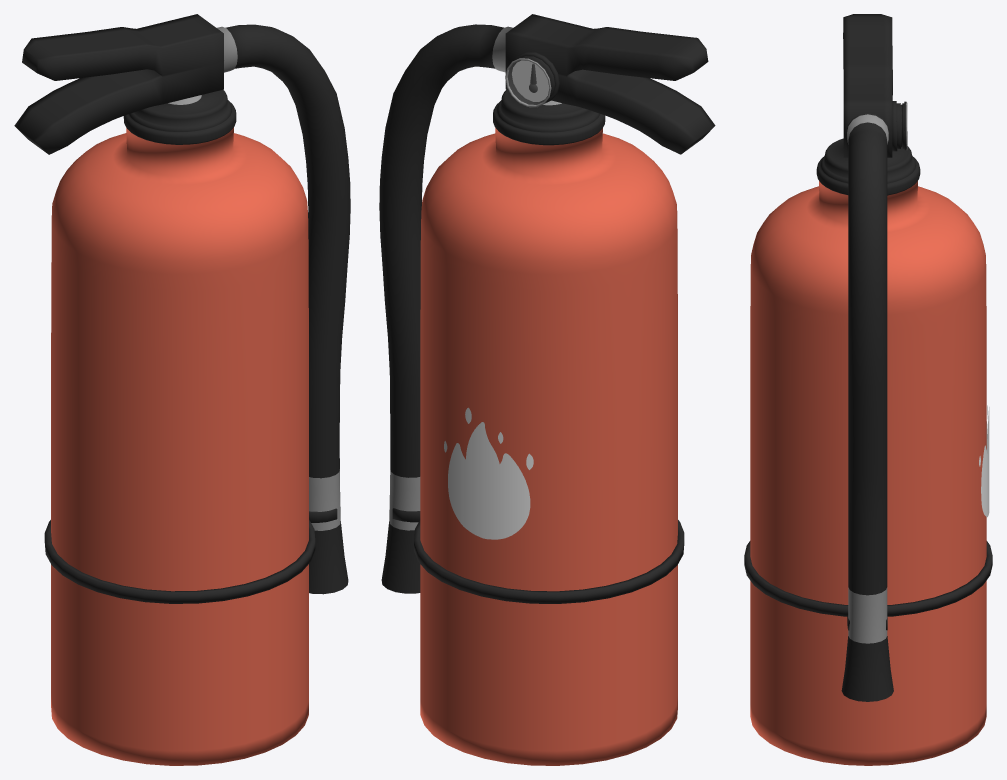
The model's file is fireextinguisher.glb.
The picture shows the model from 3 angles, left to right: view 1: azimuth 30°, elevation 25°; view 2: azimuth 150°, elevation 25°; view 3: azimuth 270°, elevation 25°; orthographic projection. The views are drawn at different scales.
Visible parts, largest first — view 1: Extinguisher Base, Hose, Clip, Holder for Hose; view 2: Extinguisher Base, Hose, Clip, Extinguisher Base.001, Holder for Hose, Compass; view 3: Extinguisher Base, Hose, Clip, Holder for Hose, Compass, Extinguisher Base.001.
Boxes of the visible parts, x1,y1,x2,y2 form: Extinguisher Base: [51, 90, 308, 765]; Hose: [217, 24, 350, 594]; Clip: [14, 14, 223, 154]; Holder for Hose: [44, 519, 315, 603]; Extinguisher Base: [420, 89, 677, 765]; Hose: [379, 24, 513, 593]; Clip: [505, 14, 715, 154]; Extinguisher Base.001: [444, 407, 533, 539]; Holder for Hose: [414, 520, 684, 603]; Compass: [505, 52, 559, 107]; Extinguisher Base: [750, 138, 986, 765]; Hose: [841, 113, 893, 701]; Clip: [843, 14, 892, 157]; Holder for Hose: [744, 541, 992, 616]; Compass: [892, 101, 907, 151]; Extinguisher Base.001: [979, 405, 989, 517].
Size of the model in its own units: 0.8317 by 1.71 by 0.6046.
Materials: 8 (1 with a texture image).
